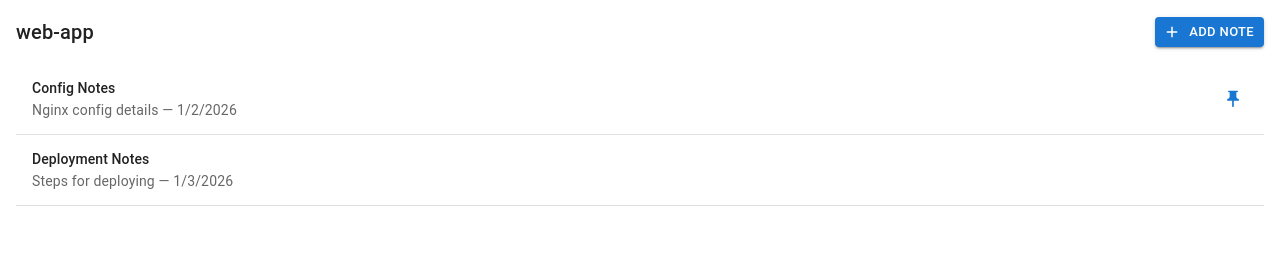
Test: NoteListView › shows title input when Add Note is clicked
The image size is (1280, 279).
Click the button "Add Note". click: (1210, 32)
box: [1155,17,1264,47]
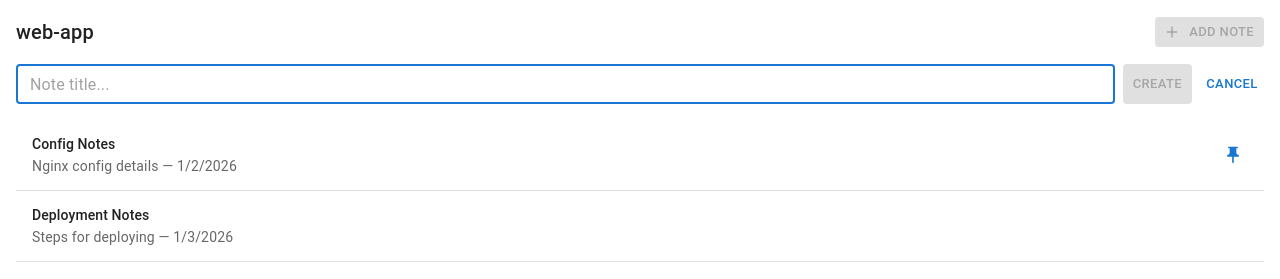
Now the field with placeholder "Note title..." is shown, box [16,64,1115,104]
